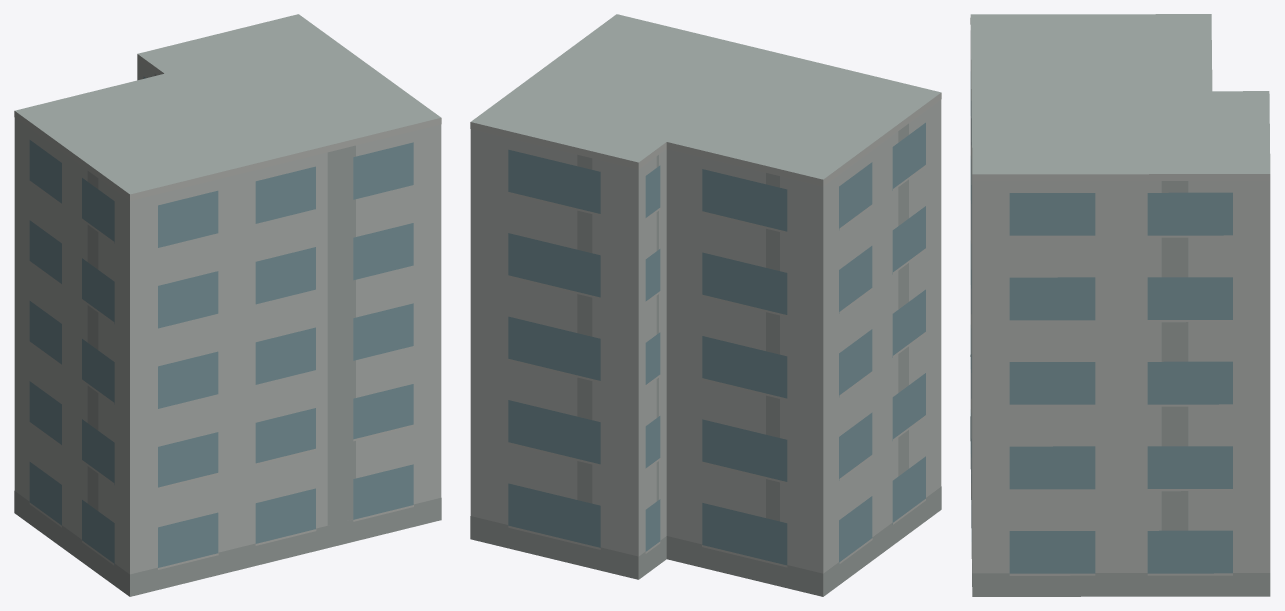
The model's file is survey-upis-32566085.glb.
3 renders of one model, left to right at view 1: azimuth 30°, elevation 25°; view 2: azimuth 150°, elevation 25°; view 3: azimuth 270°, elevation 25°, orthographic. The views are drawn at different scales.
Parts seen in each view (by area): view 1: survey-upis-32566085.tmp; view 2: survey-upis-32566085.tmp; view 3: survey-upis-32566085.tmp.
Boxes of the visible parts, x1=… form: survey-upis-32566085.tmp: x1=14, y1=14, x2=441, y2=596; survey-upis-32566085.tmp: x1=470, y1=14, x2=941, y2=596; survey-upis-32566085.tmp: x1=970, y1=14, x2=1270, y2=596.
Size of the model in its own units: 11.94 by 14.65 by 9.44.
